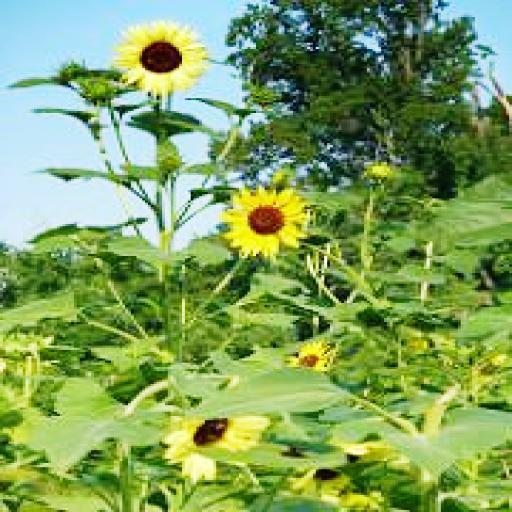sunflower: (114, 21, 205, 96), (216, 183, 313, 252), (199, 384, 202, 386)
